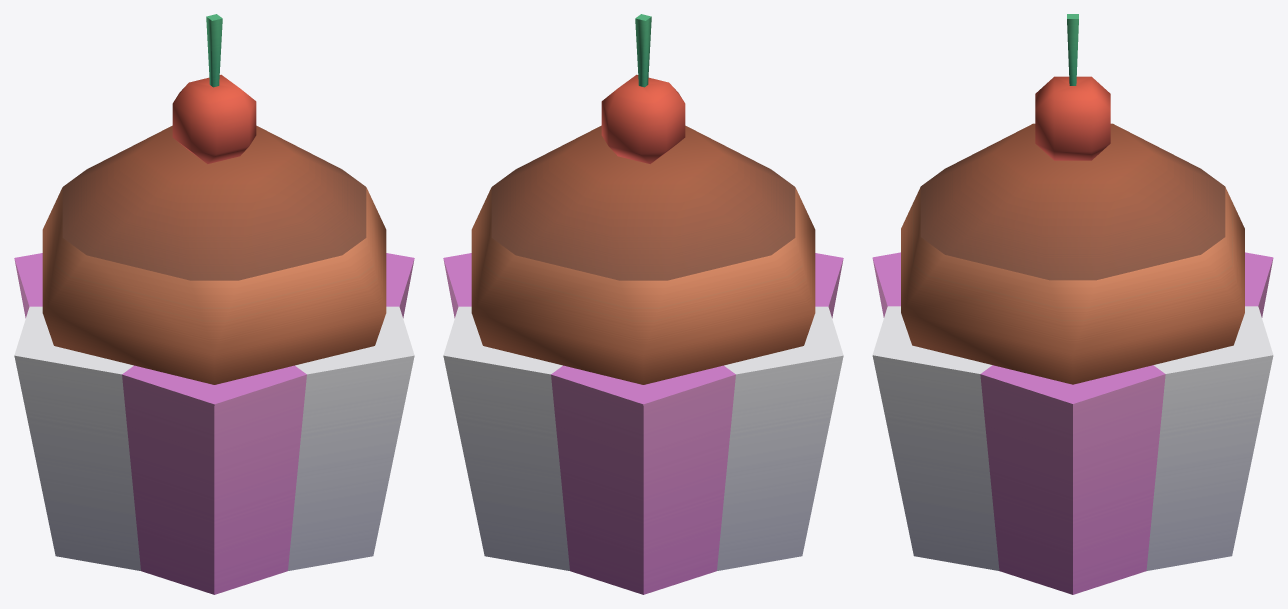
The model's file is cupcake.obj.
3 views of the same model, side by side, from view 1: azimuth 30°, elevation 25°; view 2: azimuth 150°, elevation 25°; view 3: azimuth 270°, elevation 25° (orthographic).
Visible parts, largest first — view 1: cupcake, cake, cherry; view 2: cupcake, cake, cherry; view 3: cupcake, cake, cherry.
Boxes of the visible parts, x1,y1,x2,y2 form: cupcake: [14, 253, 414, 594]; cake: [42, 125, 386, 384]; cherry: [172, 14, 256, 163]; cupcake: [443, 253, 843, 594]; cake: [471, 125, 815, 384]; cherry: [601, 14, 685, 163]; cupcake: [872, 252, 1273, 594]; cake: [901, 123, 1244, 384]; cherry: [1035, 14, 1110, 160].
Size of the model in its own units: 0.3552 by 0.4238 by 0.3076.
Materials: 1 (1 with a texture image).
